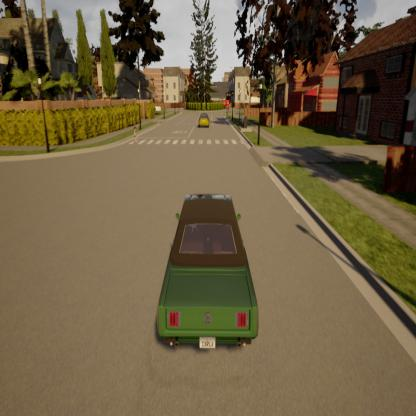Cars: (151, 186, 264, 366), (196, 110, 212, 130)
Pedestrian: (128, 124, 140, 146)
